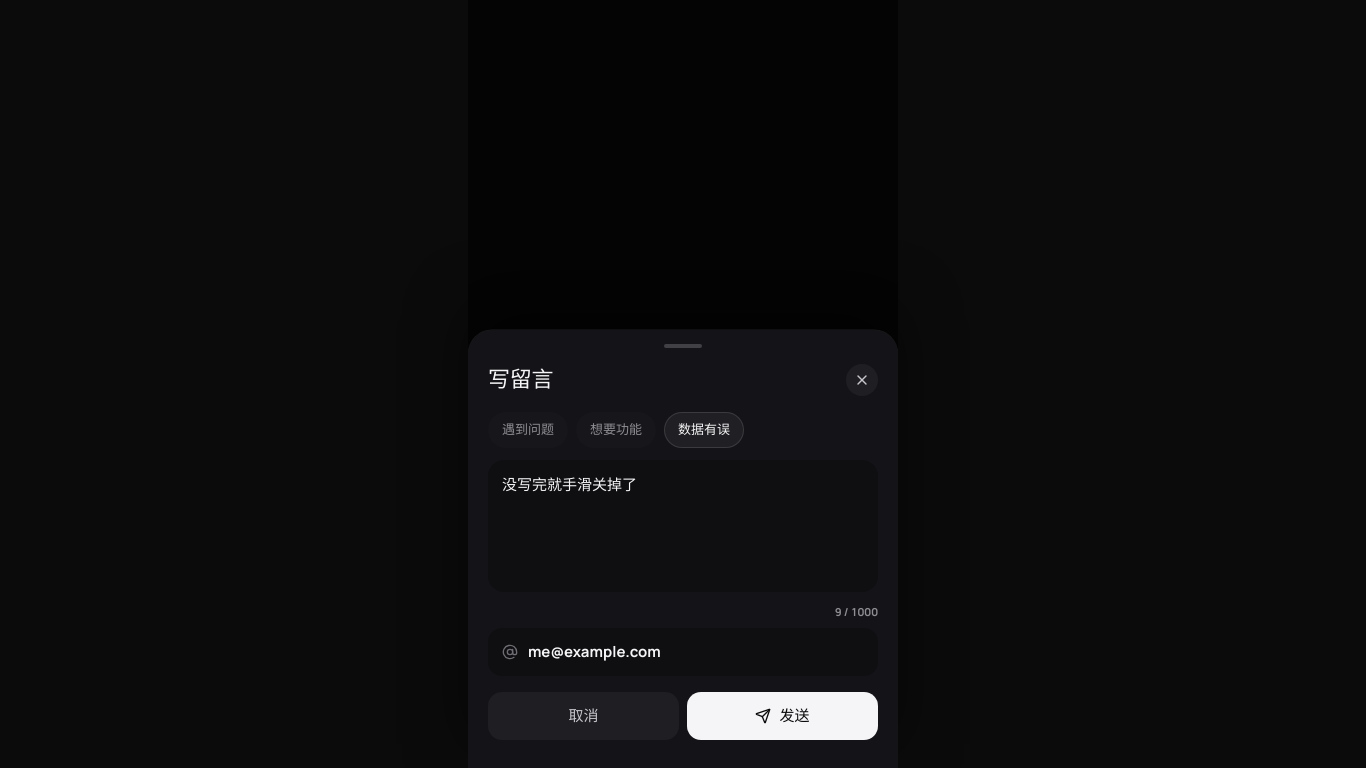
Test case: FeedbackSheet › restores a draft that survived an accidental close, and clears it once sent
Check: the text box named "留言内容" holds "没写完就手滑关掉了", box [488,460,878,592]
Check: the field named "联系方式（可选）" holds "me@example.com", box [528,641,864,663]
Click the button "发送". click: (782, 716)
box: [687,692,878,740]
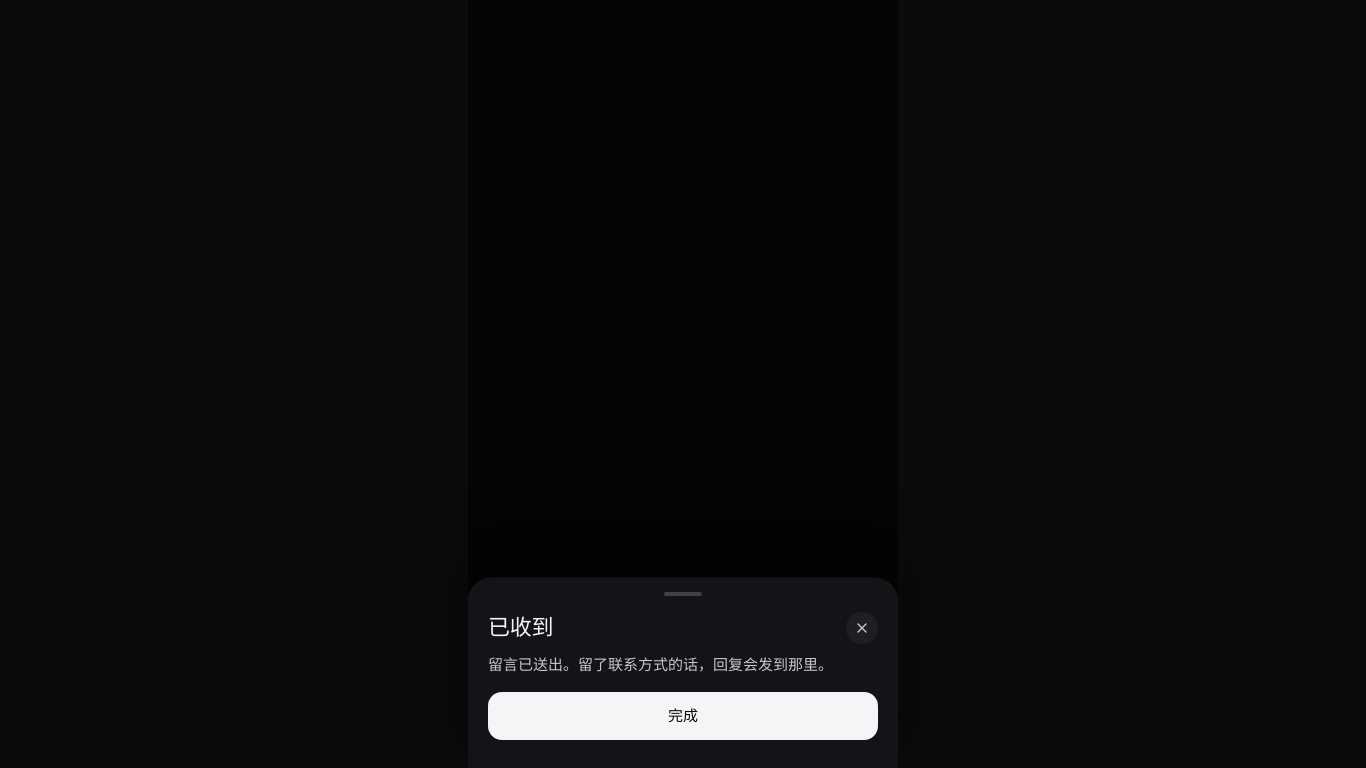
Check: the heading "已收到" is shown, box [488,612,553,642]
